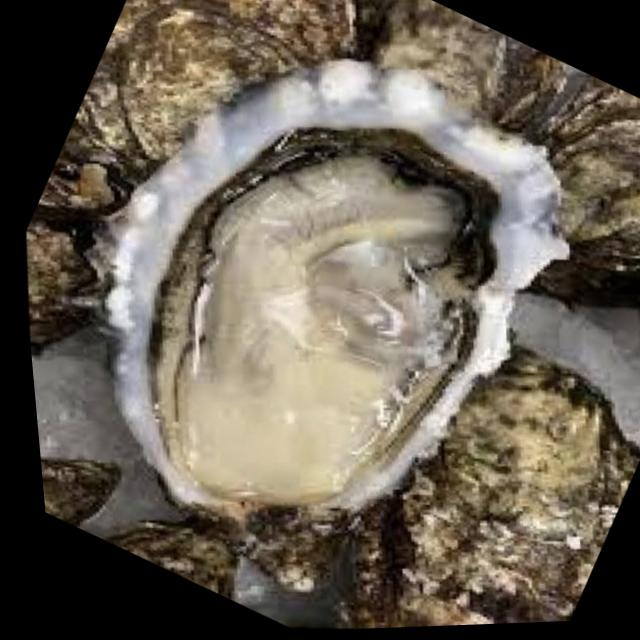Oyster-Indeterminate: (349, 351, 640, 627), (73, 0, 305, 204), (101, 0, 388, 151), (334, 0, 536, 146), (509, 72, 640, 282), (492, 47, 640, 205), (93, 471, 261, 604), (19, 208, 122, 353), (38, 426, 145, 546)
Oyster-Open: (107, 62, 564, 505)
